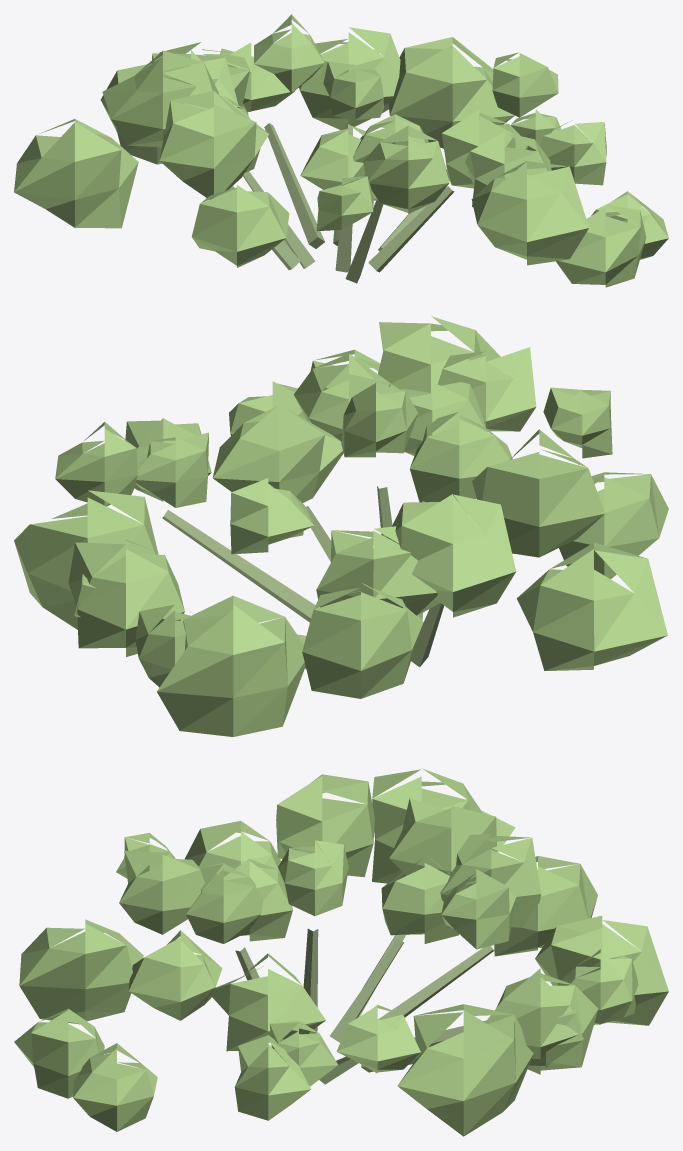
Rendered from temperate-forest-ecology-bilberry-mound-ecaa338c__3841.glb.
3 renders of one model, top to bottom at view 1: azimuth 30°, elevation 25°; view 2: azimuth 150°, elevation 25°; view 3: azimuth 270°, elevation 25°, orthographic. The views are drawn at different scales.
Visible parts, largest first — view 1: bilberry-mound; view 2: bilberry-mound; view 3: bilberry-mound.
Part boxes in pixels (x1=…): bilberry-mound: x1=14, y1=14, x2=668, y2=287; bilberry-mound: x1=14, y1=316, x2=668, y2=736; bilberry-mound: x1=14, y1=768, x2=668, y2=1136.
Bounding box in the file's own units: 1.33 × 0.5194 × 1.36.
